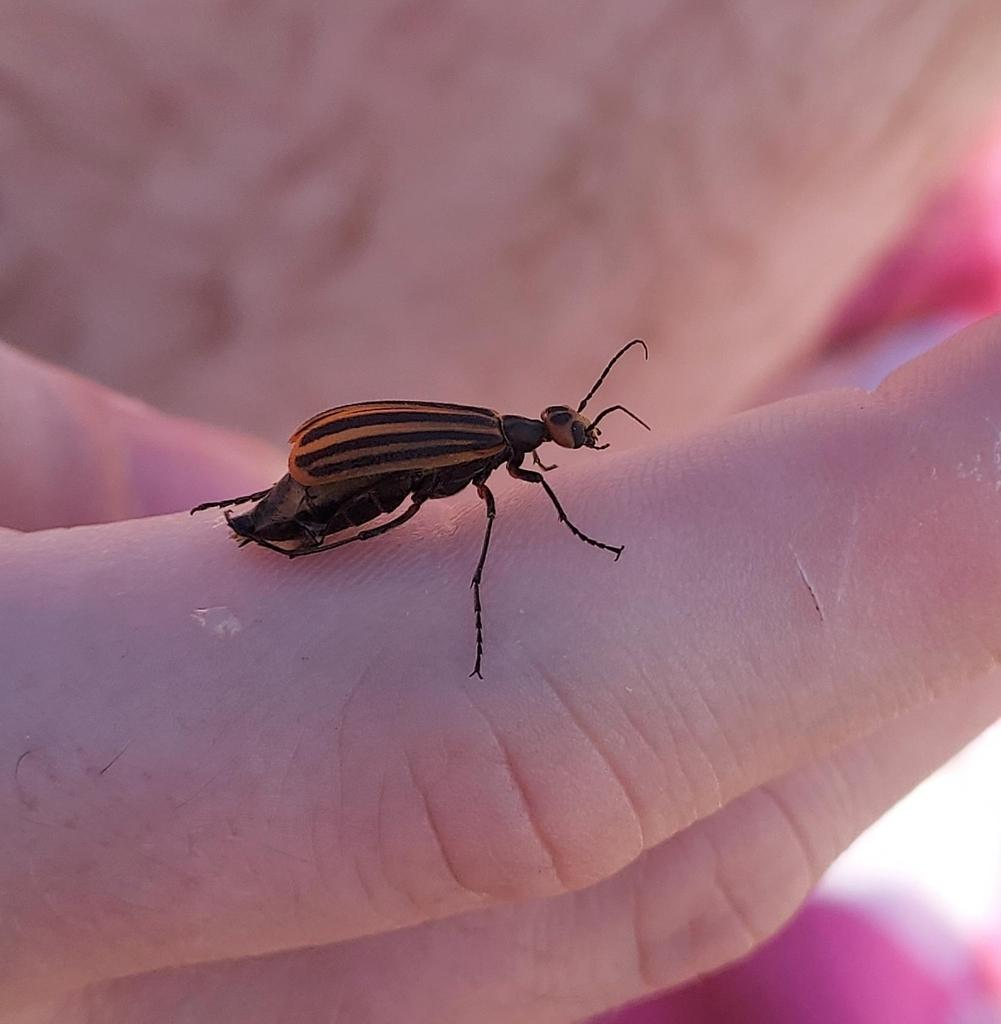blister_beetle: (159, 239, 833, 734)
